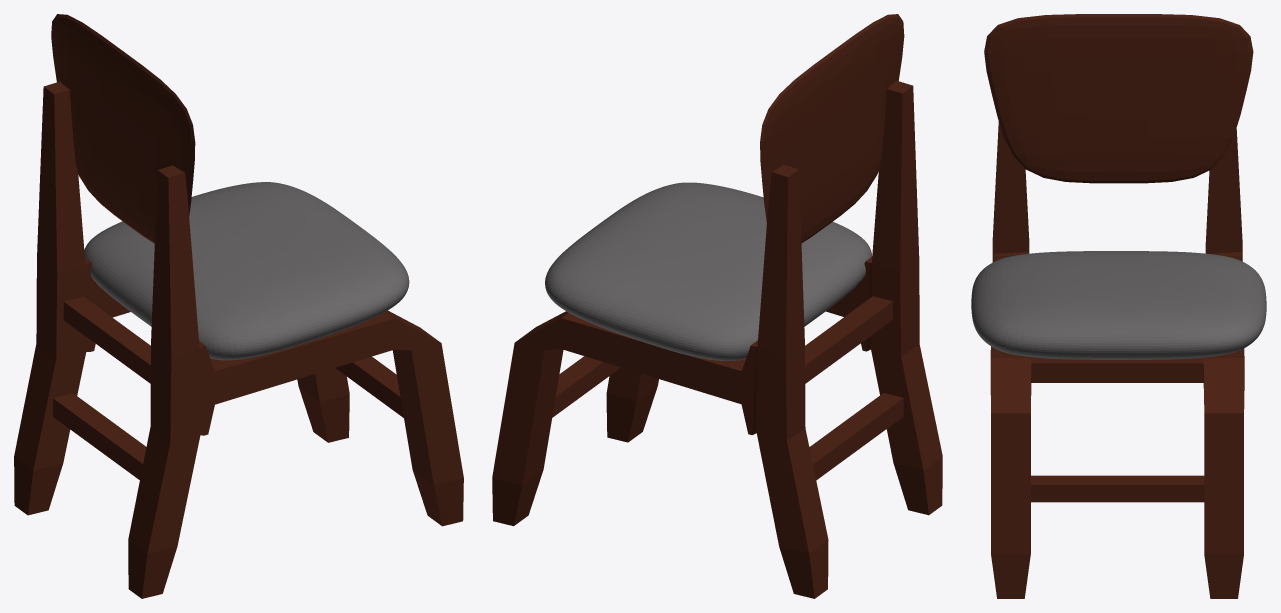
The model's file is silla_minimalista.glb.
The picture shows the model from 3 angles, left to right: view 1: azimuth 30°, elevation 25°; view 2: azimuth 150°, elevation 25°; view 3: azimuth 270°, elevation 25°; orthographic projection. The views are drawn at different scales.
Parts seen in each view (by area): view 1: Plano, Plano.001; view 2: Plano, Plano.001; view 3: Plano, Plano.001.
Boxes of the visible parts, x1=… form: Plano: x1=14, y1=14, x2=463, y2=598; Plano.001: x1=84, y1=182, x2=409, y2=360; Plano: x1=492, y1=14, x2=942, y2=598; Plano.001: x1=545, y1=182, x2=872, y2=360; Plano: x1=984, y1=14, x2=1253, y2=598; Plano.001: x1=971, y1=251, x2=1266, y2=359.
Size of the model in its own units: 3.59 by 5.26 by 3.07.
